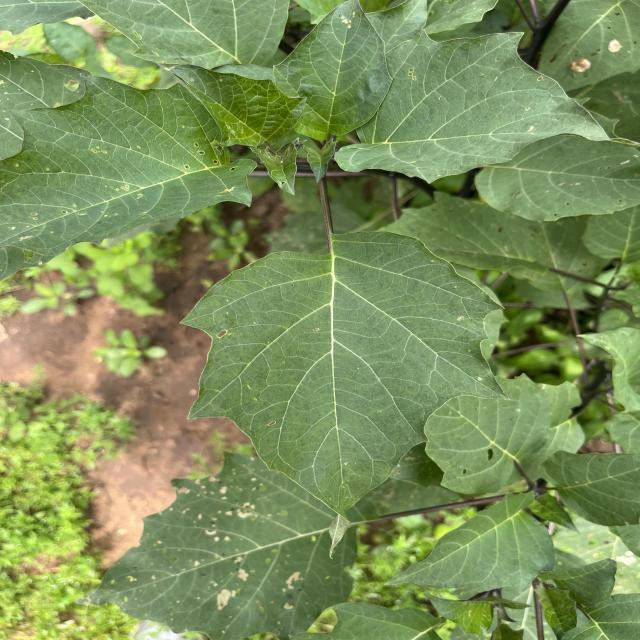Datura metal linn: (174, 225, 518, 562), (0, 66, 264, 284), (332, 28, 640, 186), (382, 487, 557, 604), (270, 0, 395, 142), (154, 58, 310, 150)
